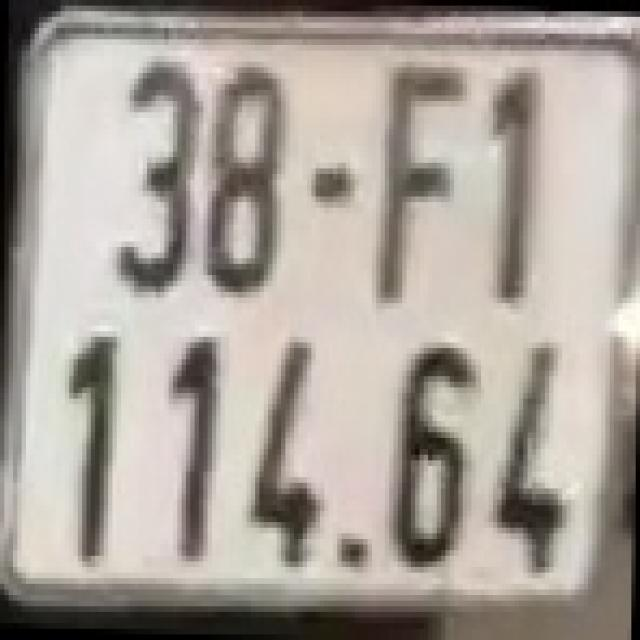1: (484, 68, 545, 304), (164, 332, 220, 562), (65, 332, 121, 562)
3: (117, 62, 199, 292)
4: (497, 337, 571, 572), (251, 337, 324, 567)
6: (394, 342, 476, 567)
8: (204, 62, 286, 292)
F: (376, 56, 467, 303)
